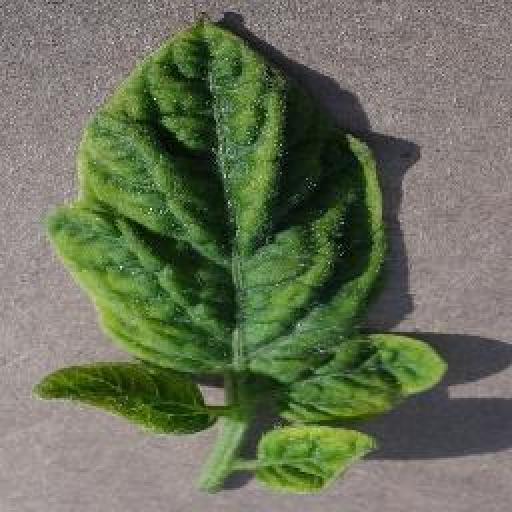disease_tomato: (32, 10, 448, 422), (258, 428, 382, 496)
